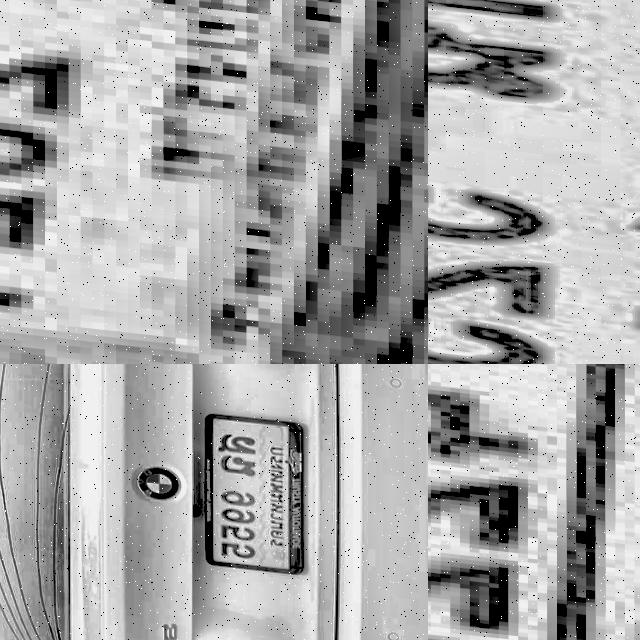license-plate: (0, 0, 428, 364), (428, 0, 640, 364), (428, 364, 640, 640), (202, 404, 306, 569)
